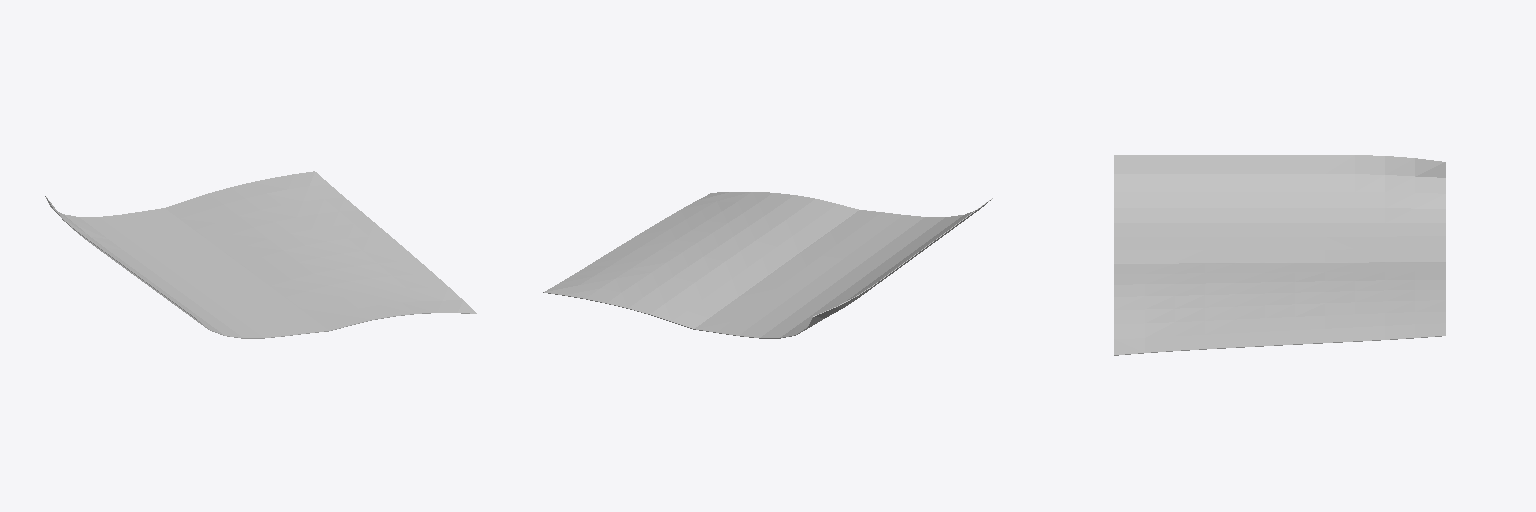
The model's file is page-turn-1.obj.
3 views of the same model, side by side, from view 1: azimuth 30°, elevation 25°; view 2: azimuth 150°, elevation 25°; view 3: azimuth 270°, elevation 25° (orthographic).
Parts seen in each view (by area): view 1: Plane; view 2: Plane; view 3: Plane.
Part boxes in pixels (left/top/right/bottom): Plane: left=45, top=171, right=476, bottom=338; Plane: left=543, top=192, right=992, bottom=338; Plane: left=1114, top=155, right=1445, bottom=355.
Bounding box in the file's own units: 1.98 × 0.4251 × 2.